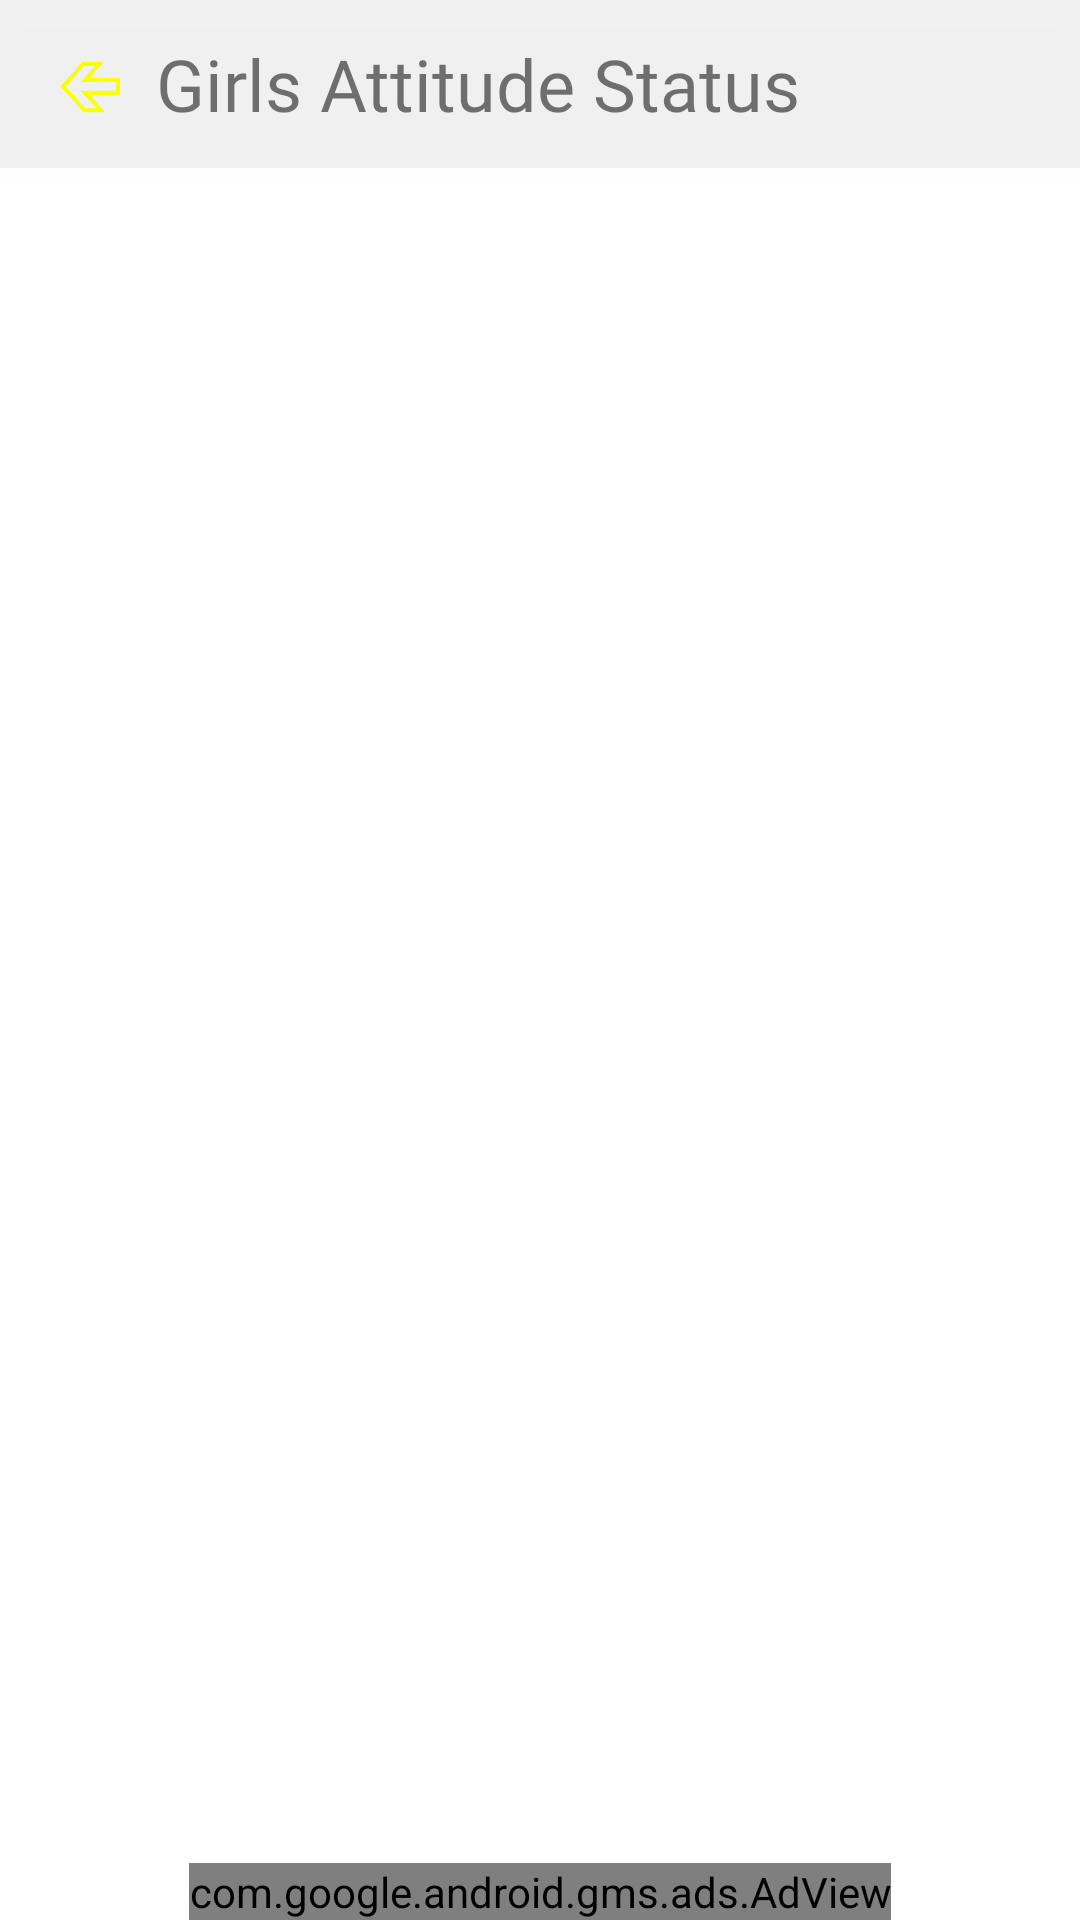

Screen size 1080px×1920px. Icon name, then its box in pixels as region(x1, y1, x2, y2):
back: region(60, 61, 120, 113)
